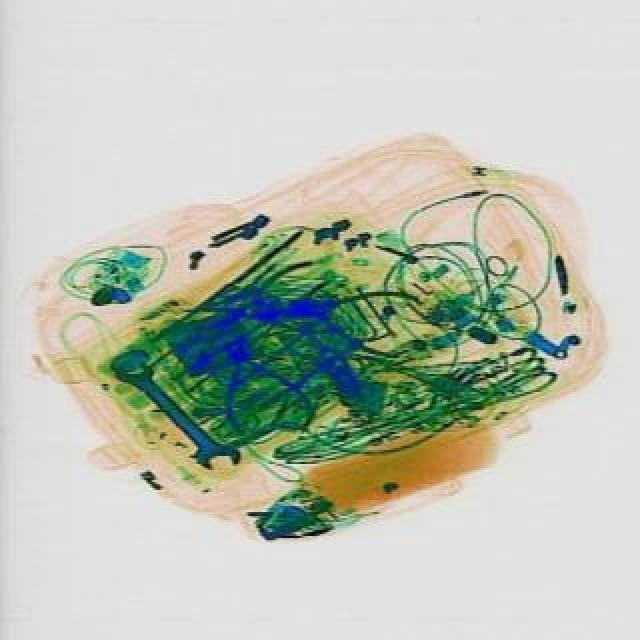scissors: (106, 346, 244, 480)
wrench: (194, 324, 314, 444), (278, 276, 416, 360), (216, 252, 332, 336)
